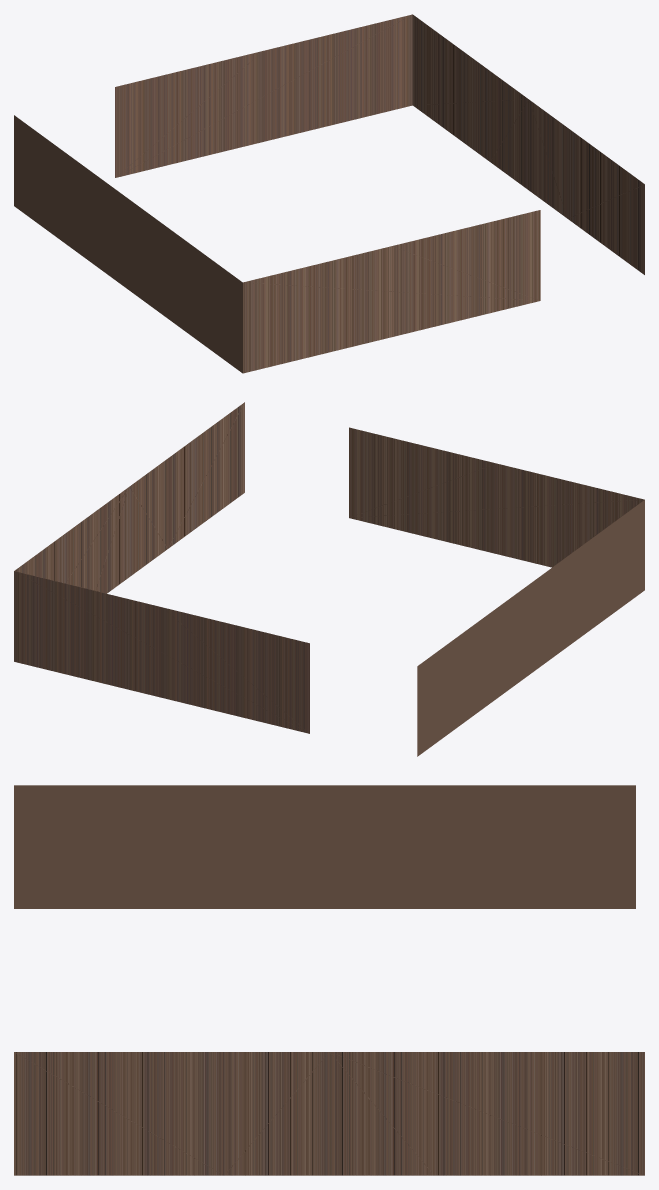
The model's file is woodenFacade.glb.
The picture shows the model from 3 angles, top to bottom: view 1: azimuth 30°, elevation 25°; view 2: azimuth 150°, elevation 25°; view 3: azimuth 270°, elevation 25°; orthographic projection. The views are drawn at different scales.
Visible parts, largest first — view 1: woodenFacade.004; view 2: woodenFacade.004; view 3: woodenFacade.004.
Part boxes in pixels (x1=…): woodenFacade.004: x1=14, y1=14, x2=644, y2=373; woodenFacade.004: x1=14, y1=402, x2=644, y2=756; woodenFacade.004: x1=14, y1=785, x2=644, y2=1175.
Bounding box in the file's own units: 34.64 × 7.5 × 34.64.
Materials: 1 (1 with a texture image).
